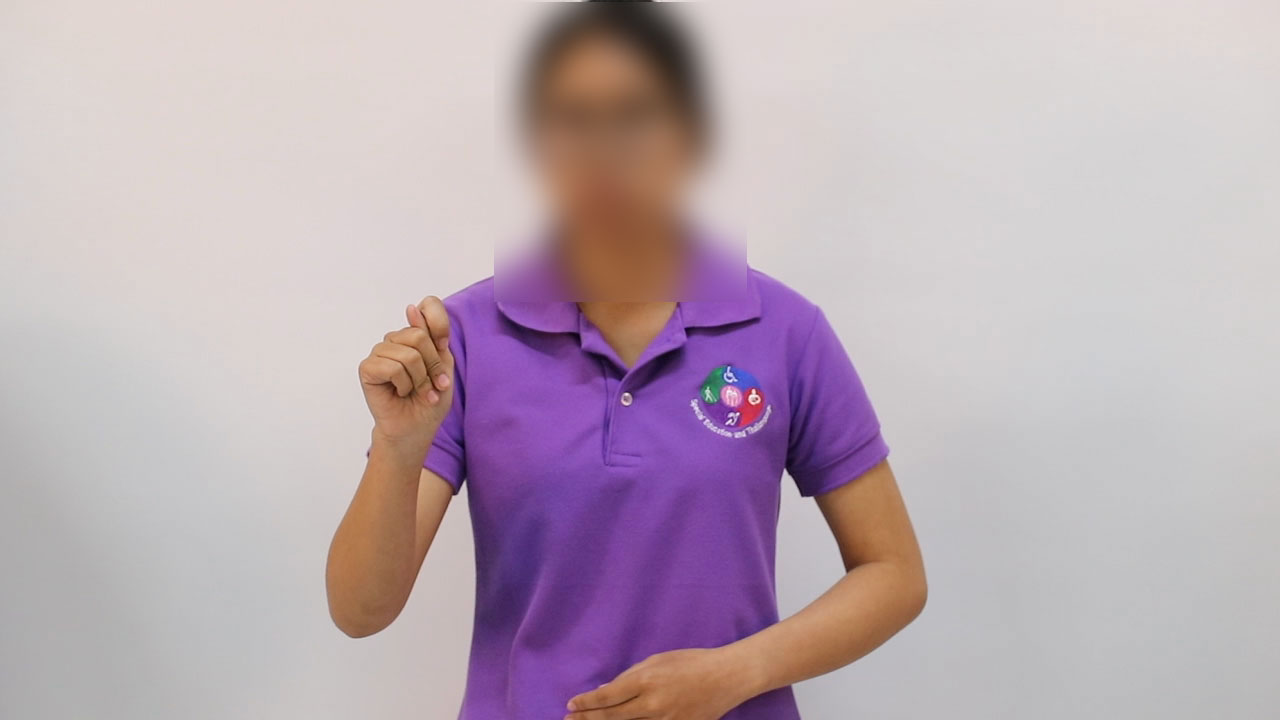tor: (316, 282, 494, 460)
